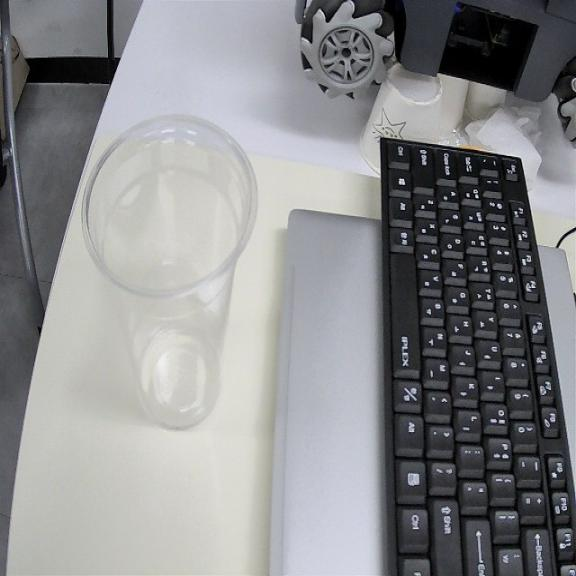Plastik: (82, 116, 258, 428)
